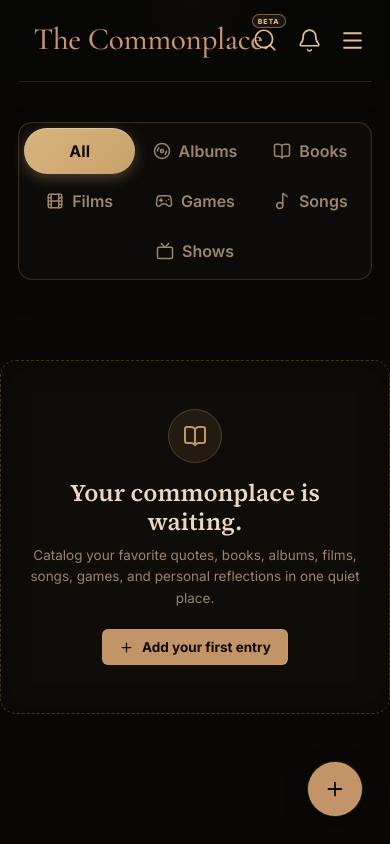
Scenario: application shell › opens a dedicated mobile navigation menu
Click the button named "Open menu".
click(352, 40)  # box [332,20,372,60]
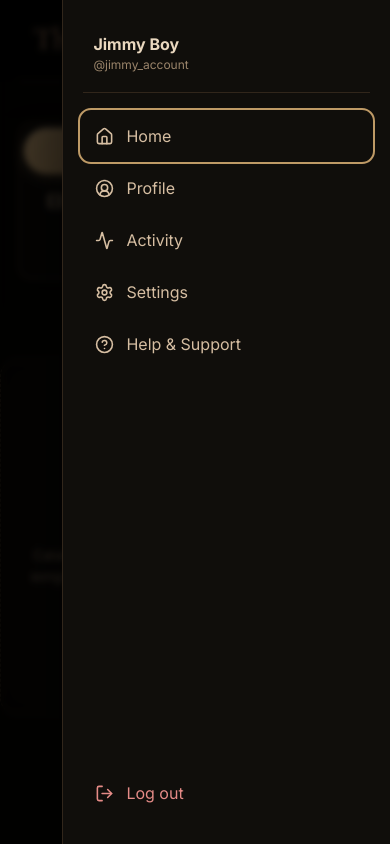
Result: the navigation bar named "Mobile navigation" is shown
Result: the button "Profile" is shown at [83,165,370,211]
Result: the button "Settings" is shown at [83,269,370,315]
